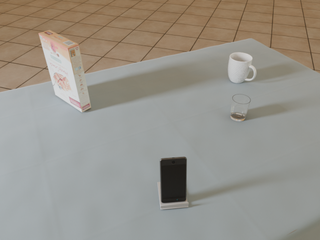box: (39, 30, 91, 112)
cup: (228, 53, 256, 83), (230, 94, 250, 121)
phone: (160, 157, 187, 203)
